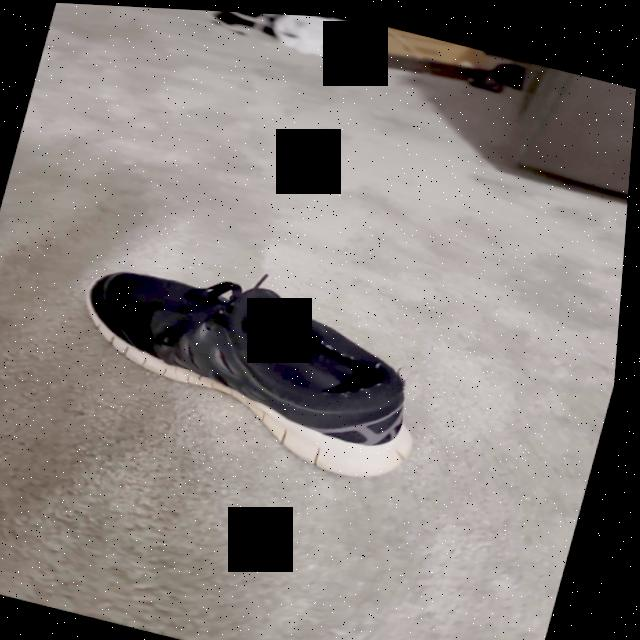shoe: (60, 244, 453, 487)
